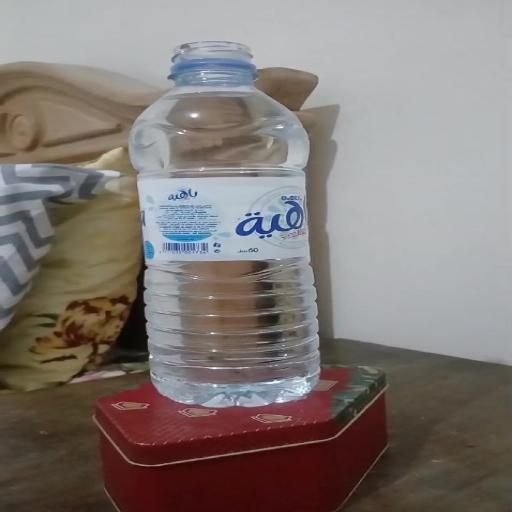bouteille non conformite: (102, 22, 354, 412), (148, 38, 270, 88)
